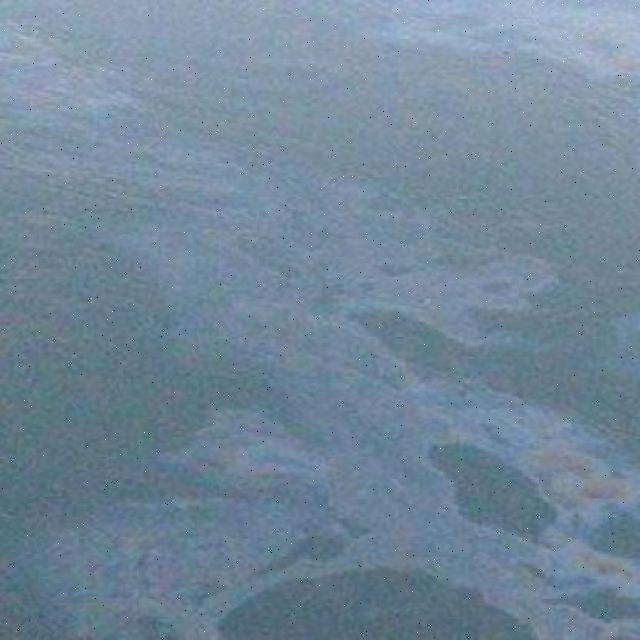oil: (0, 160, 634, 640), (317, 0, 634, 93), (9, 18, 224, 148)
